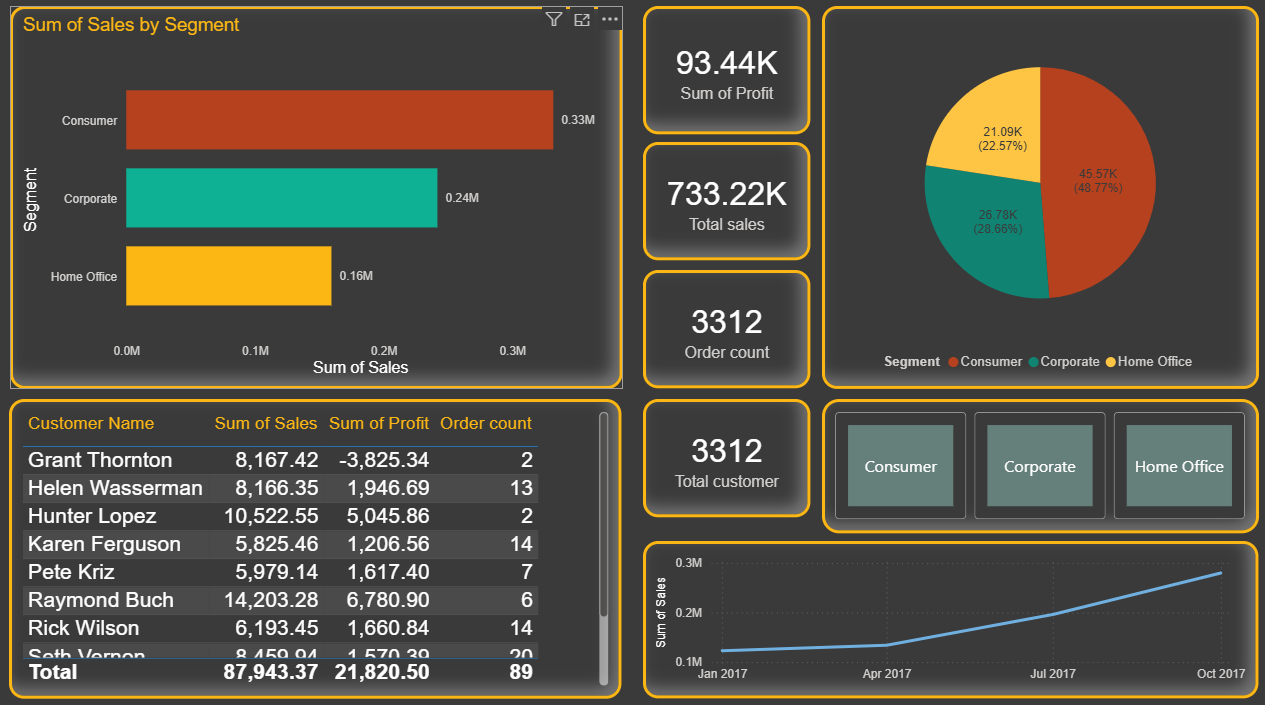

This screenshot's page, from the dashboard's own definition file:
{"tool":"powerbi","page":{"name":"Customer Insights","canvas":[1280,720],"ordinal":3},"visuals":[{"type":"clusteredBarChart","fields":{"Category":["Sample -- Superstore (2).Segment"],"Y":["Sum(Sample -- Superstore (2).Sales)"]},"box":[17.4,18.6,611,382.1],"z":0},{"type":"card","fields":{"Values":["Sample -- Superstore (2).Total sales"]},"box":[648.1,154.5,167.3,118.5],"z":1000},{"type":"card","fields":{"Values":["Sum(Sample -- Superstore (2).Profit)"]},"box":[648.1,18.6,167.3,127.8],"z":2000},{"type":"tableEx","fields":{"Values":["Sample -- Superstore (2).Customer Name","Sum(Sample -- Superstore (2).Sales)","Sum(Sample -- Superstore (2).Profit)","Sample -- Superstore (2).Order count"]},"box":[16,411,611,298.5],"z":3000},{"type":"pieChart","fields":{"Category":["Sample -- Superstore (2).Segment"],"Y":["Sum(Sample -- Superstore (2).Profit)"]},"box":[827,18.6,435.6,382.1],"z":4000},{"type":"card","fields":{"Values":["Sample -- Superstore (2).order count"]},"box":[648.1,282.3,167.3,118.5],"z":5000},{"type":"advancedSlicerVisual","fields":{"Values":["Sample -- Superstore (2).Segment"]},"box":[827,411.2,435.6,133.6],"z":6000},{"type":"lineChart","fields":{"Category":["Sample -- Superstore (2).Order Date.Variation.Date Hierarchy.Year","Sample -- Superstore (2).Order Date.Variation.Date Hierarchy.Quarter","Sample -- Superstore (2).Order Date.Variation.Date Hierarchy.Month","Sample -- Superstore (2).Order Date.Variation.Date Hierarchy.Day"],"Y":["Sum(Sample -- Superstore (2).Sales)"]},"box":[648.1,552.9,614.4,156.8],"z":7000},{"type":"card","fields":{"Values":["Sample -- Superstore (2).total customer"]},"box":[648.1,411.2,167.3,118.5],"z":8000}]}

Visuals, with their boxes in screenshot pixels (x1, y1, x2, y2), scaled from the page's 1280x720 canvas onto the 1265x705 screenshot:
clusteredBarChart - Sample -- Superstore (2).Segment x Sum(Sample -- Superstore (2).Sales): 17/18/621/392
card - Sample -- Superstore (2).Total sales: 641/151/806/267
card - Sum(Sample -- Superstore (2).Profit): 641/18/806/143
tableEx - Sample -- Superstore (2).Customer Name x Sum(Sample -- Superstore (2).Sales): 16/402/620/695
pieChart - Sample -- Superstore (2).Segment x Sum(Sample -- Superstore (2).Profit): 817/18/1248/392
card - Sample -- Superstore (2).order count: 641/276/806/392
advancedSlicerVisual - Sample -- Superstore (2).Segment: 817/403/1248/533
lineChart - Sample -- Superstore (2).Order Date.Variation.Date Hierarchy.Year x Sample -- Superstore (2).Order Date.Variation.Date Hierarchy.Quarter: 641/541/1248/695
card - Sample -- Superstore (2).total customer: 641/403/806/519
